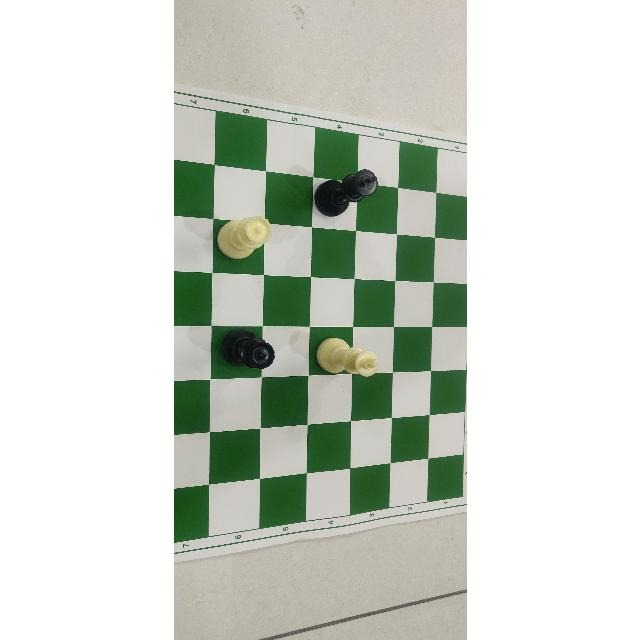black-king: (314, 159, 380, 225)
black-queen: (210, 328, 275, 374)
white-king: (313, 325, 379, 383)
white-queen: (216, 214, 268, 271)
